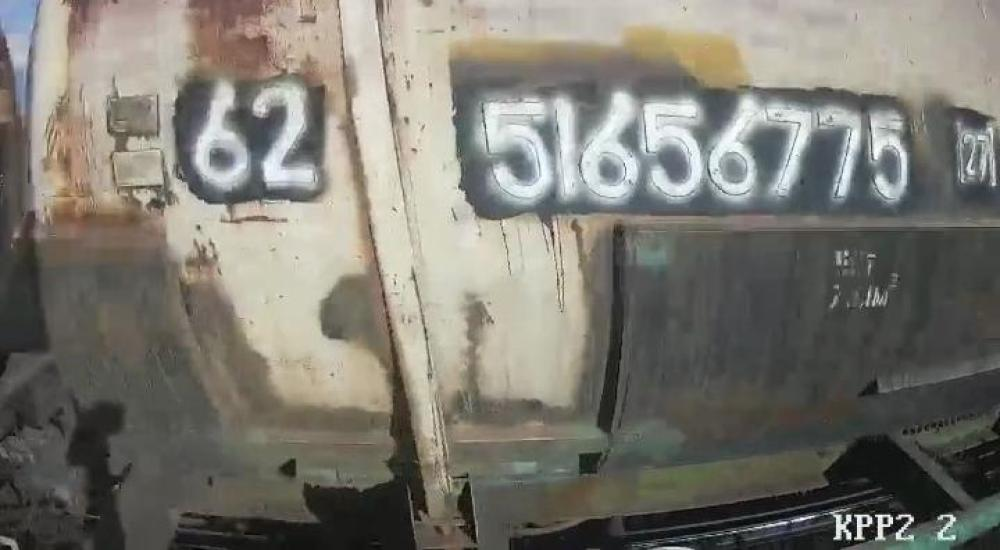Wagon-number: (479, 90, 916, 214)
